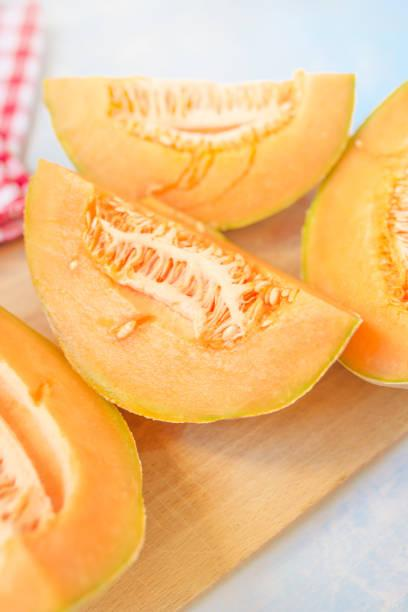Melon Ripe: (24, 159, 363, 425), (43, 72, 353, 229)
